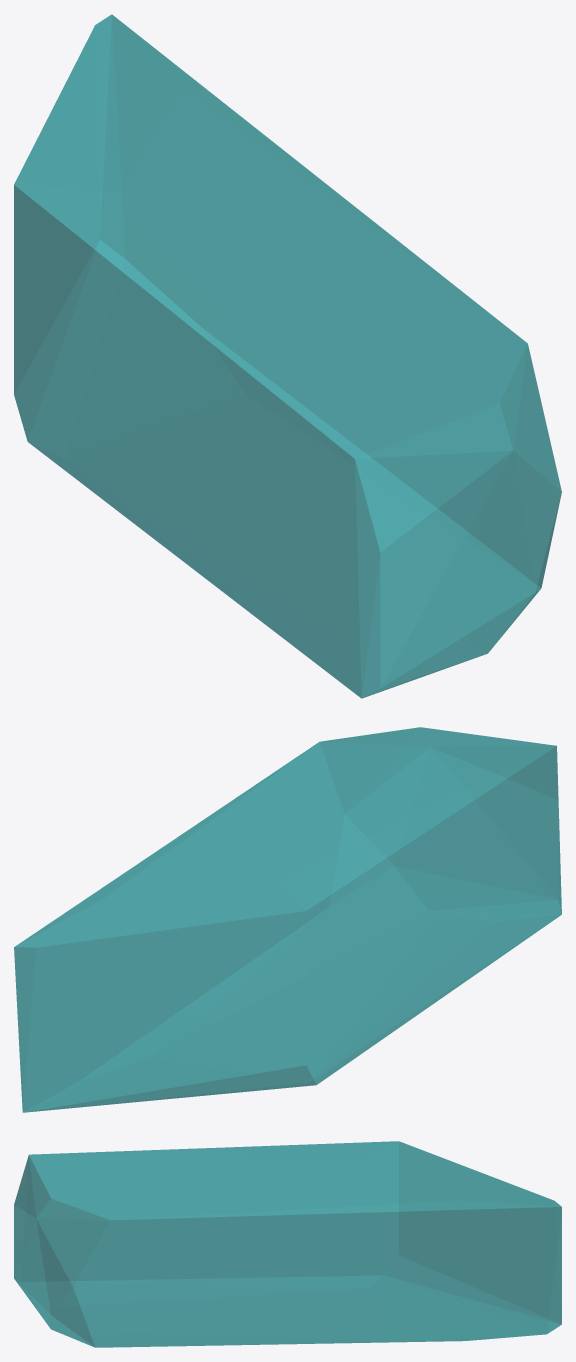
3 views of the same model, one above another, from view 1: azimuth 30°, elevation 25°; view 2: azimuth 150°, elevation 25°; view 3: azimuth 270°, elevation 25° (orthographic). The views are drawn at different scales.
Visible parts, largest first — view 1: Shape_IndexedFaceSet.026_Shape_IndexedFaceSet.10131; view 2: Shape_IndexedFaceSet.026_Shape_IndexedFaceSet.10131; view 3: Shape_IndexedFaceSet.026_Shape_IndexedFaceSet.10131.
Boxes of the visible parts, left/top/right/bottom form: Shape_IndexedFaceSet.026_Shape_IndexedFaceSet.10131: left=14, top=14, right=561, bottom=698; Shape_IndexedFaceSet.026_Shape_IndexedFaceSet.10131: left=14, top=727, right=561, bottom=1112; Shape_IndexedFaceSet.026_Shape_IndexedFaceSet.10131: left=14, top=1141, right=561, bottom=1347.
Size of the model in its own units: 0.00767 by 0.00803 by 0.027.
